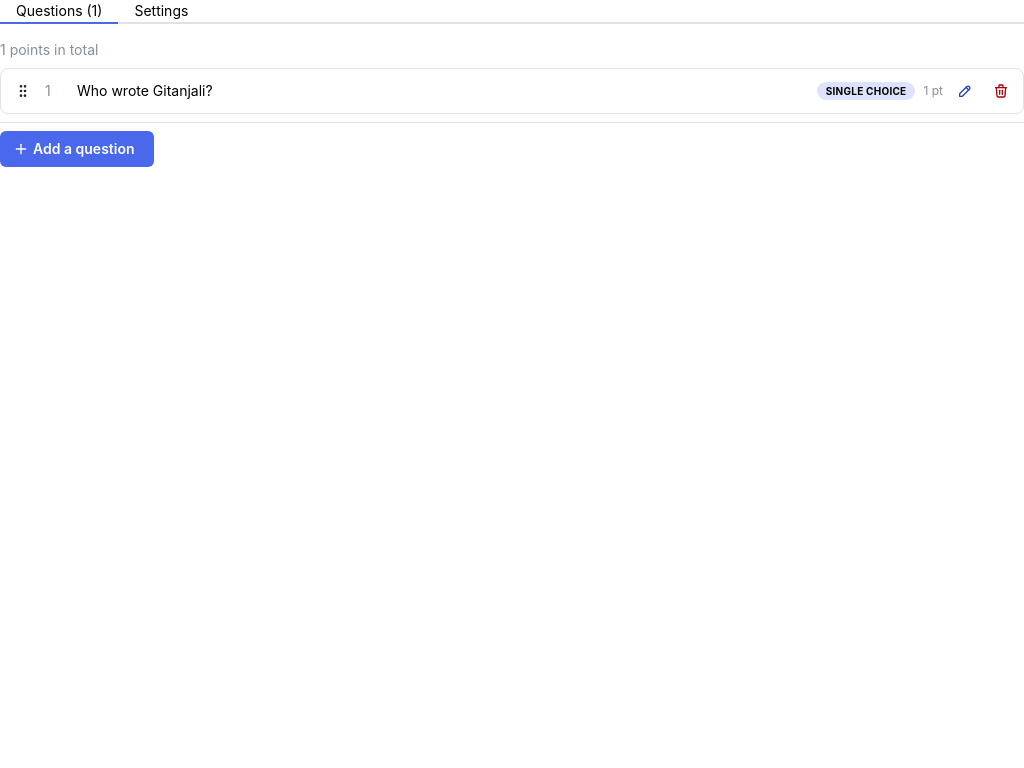
Test: QuizBuilder › accepts typing into a fill-in-the-blank row
Click the button "Add a question": (77, 149) top-left (0, 131), bottom-right (154, 167)
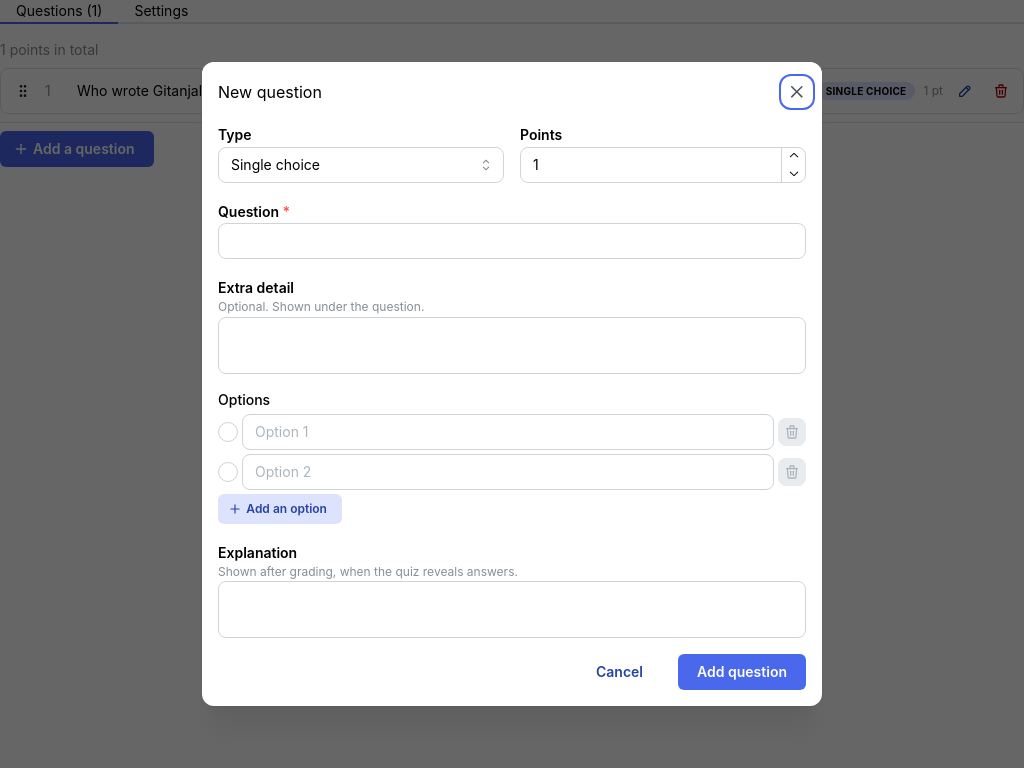
Click the dropdown labelled "Type": (361, 165) top-left (218, 147), bottom-right (504, 183)
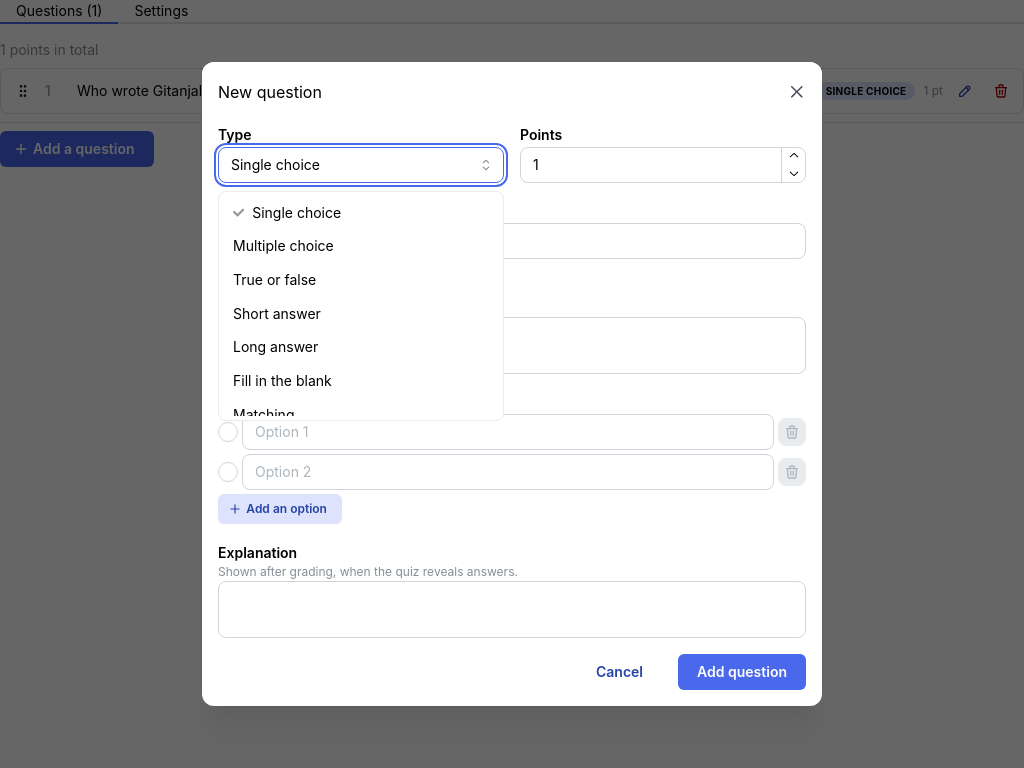
Click the option "Fill in the blank": (282, 381) top-left (233, 372), bottom-right (332, 389)
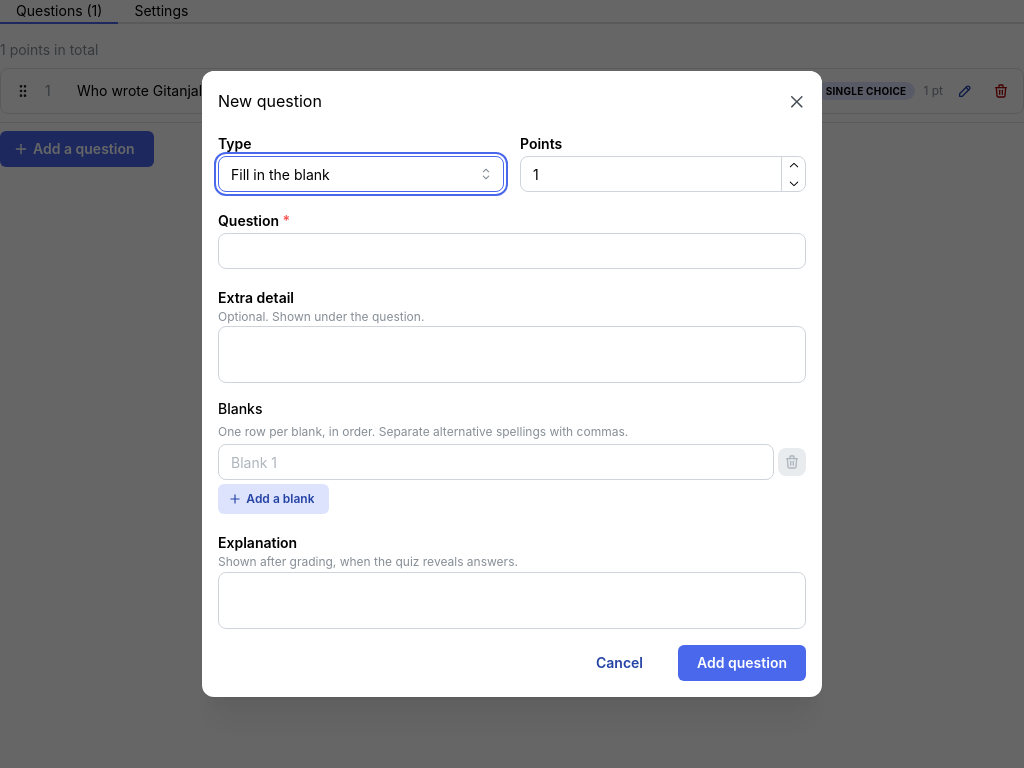
Click the field labelled "Blank 1": (496, 462) top-left (218, 444), bottom-right (774, 480)
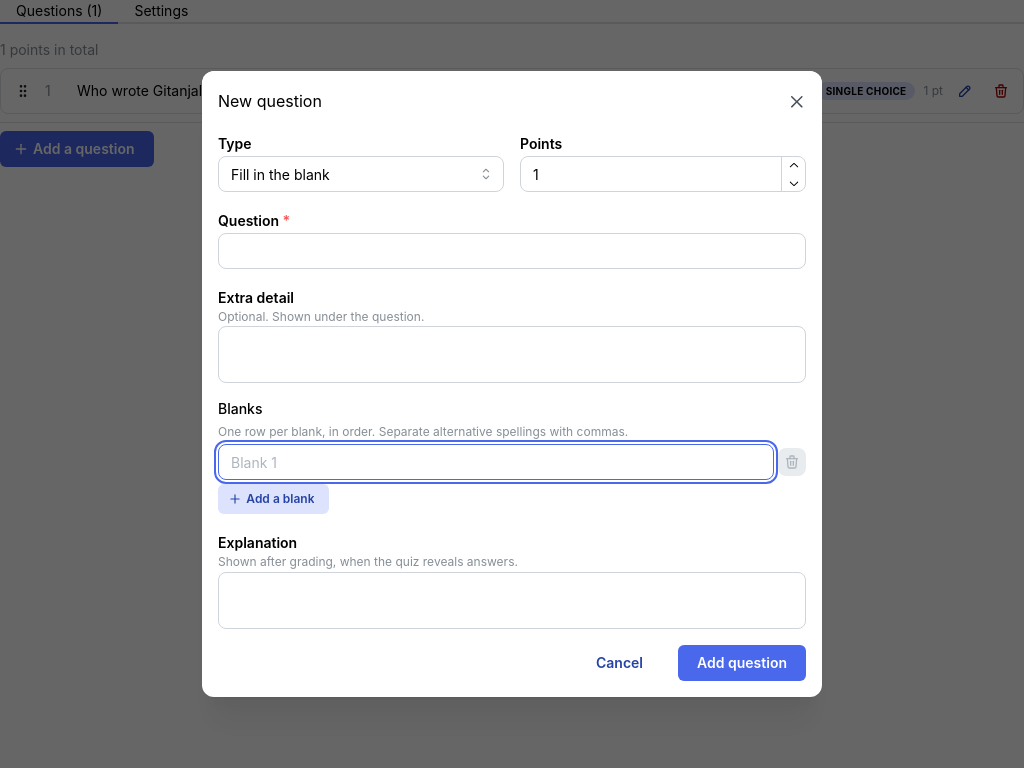
Type keys "1910"
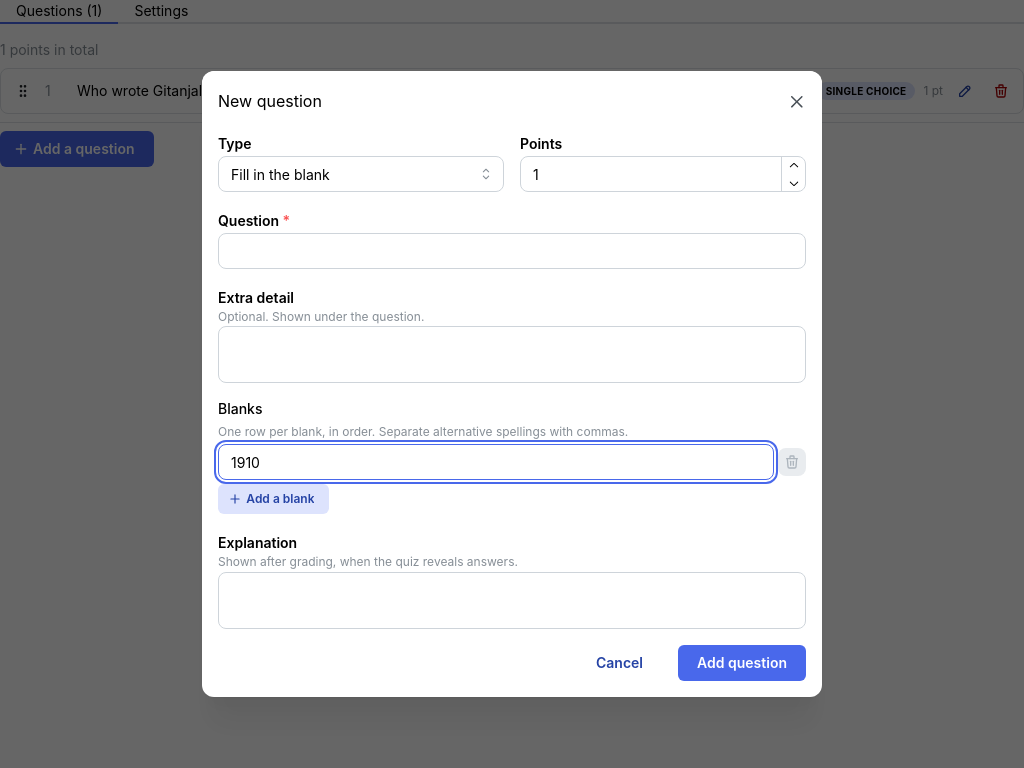
Expected: the field named "Blank 1" holds "1910", top-left (218, 444), bottom-right (774, 480)
